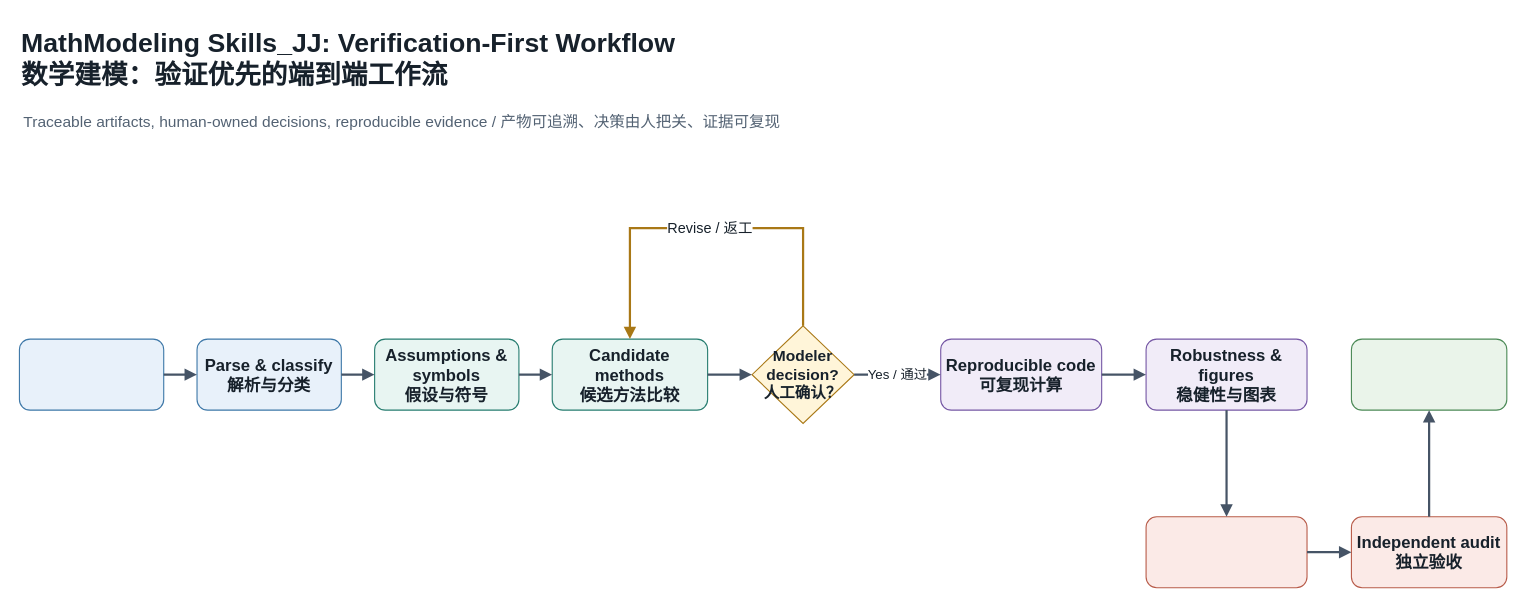
This 1526x607 diagram has some shape labels left out. Here are the shapes that lost their labels. From the top down, the box of each, then its label:
(18, 338, 164, 410): Problem & data 题目与附件
(1350, 338, 1507, 410): Contest-ready deliverable 可提交成果
(1145, 516, 1307, 588): Evidence-bound paper 证据约束论文
